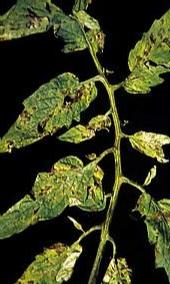Tomato Septoria leaf spot: (0, 152, 112, 246), (0, 69, 96, 159), (119, 2, 170, 96), (125, 182, 170, 284), (0, 242, 86, 284), (0, 1, 65, 46)
